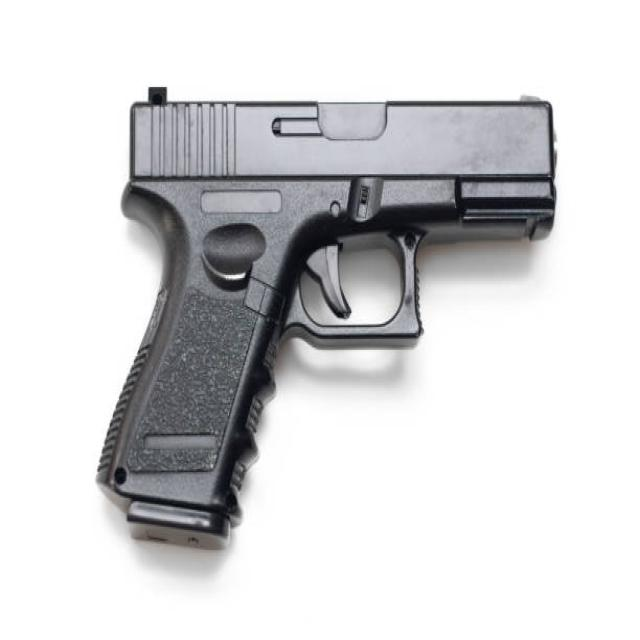pistol: (92, 76, 566, 556)
